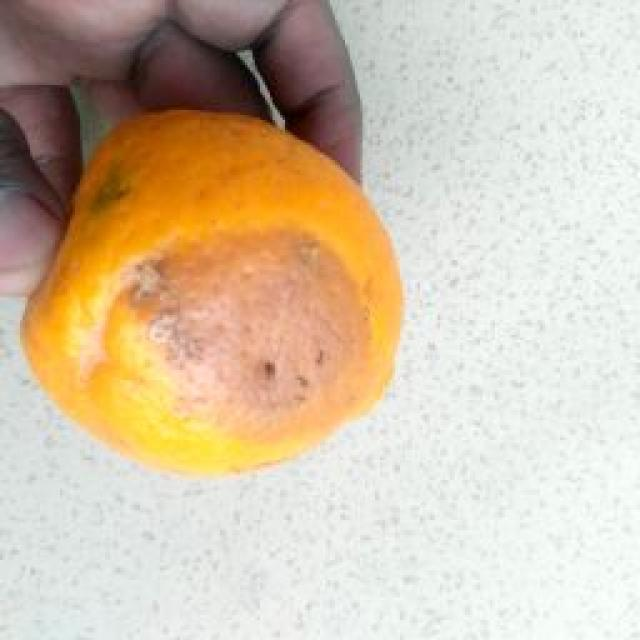Bad_Orange: (22, 114, 402, 473)
